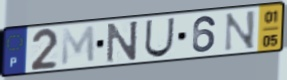2: (30, 26, 60, 73)
6: (191, 14, 218, 54)
M: (60, 24, 97, 68)
N: (105, 19, 140, 65), (222, 9, 257, 54)
U: (143, 16, 177, 59)
